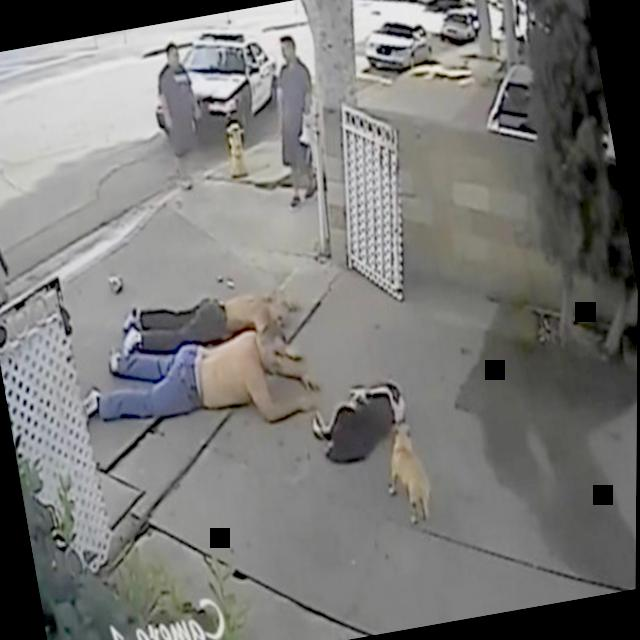Fall-Detected: (106, 260, 302, 366)
